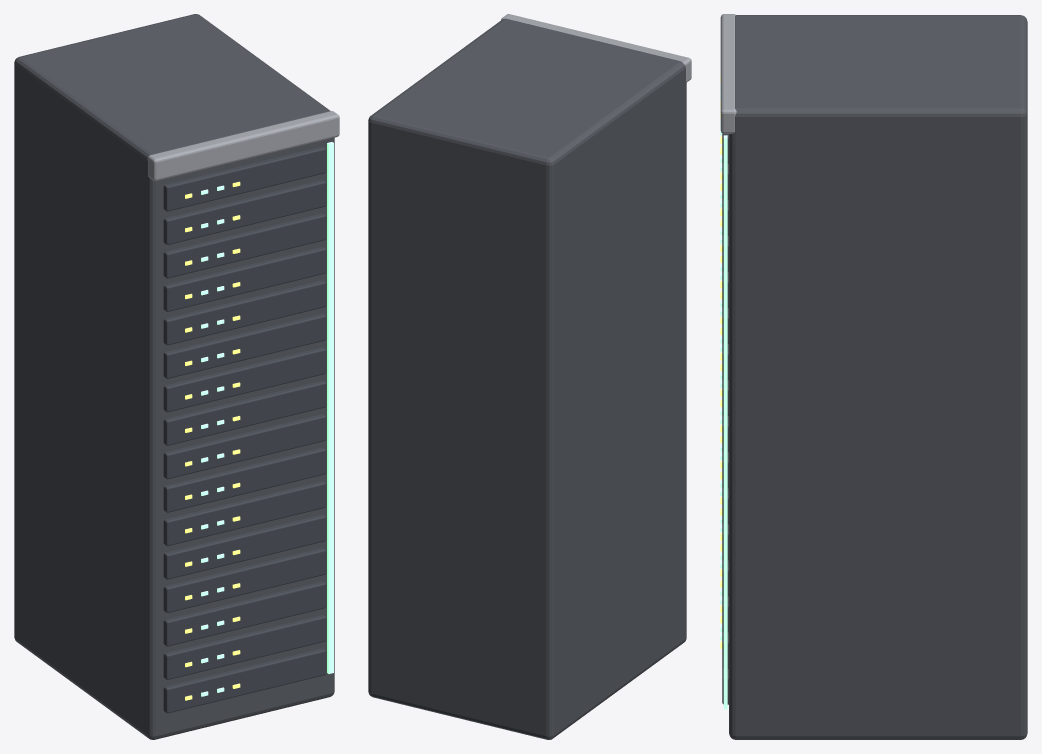
The model's file is server_rack_blade_full.glb.
3 views of the same model, side by side, from view 1: azimuth 30°, elevation 25°; view 2: azimuth 150°, elevation 25°; view 3: azimuth 270°, elevation 25° (orthographic). The views are drawn at different scales.
Visible parts, largest first — view 1: GD_server_rack_blade_full__m0, GD_server_rack_blade_full__m1, GD_server_rack_blade_full__m4, GD_server_rack_blade_full__m3, GD_server_rack_blade_full__m2; view 2: GD_server_rack_blade_full__m0, GD_server_rack_blade_full__m4; view 3: GD_server_rack_blade_full__m0, GD_server_rack_blade_full__m3, GD_server_rack_blade_full__m1, GD_server_rack_blade_full__m4, GD_server_rack_blade_full__m2.
Boxes of the visible parts, <box> form: GD_server_rack_blade_full__m0: <box>14,14,334,739</box>; GD_server_rack_blade_full__m1: <box>163,146,326,713</box>; GD_server_rack_blade_full__m4: <box>147,111,339,180</box>; GD_server_rack_blade_full__m3: <box>201,142,333,696</box>; GD_server_rack_blade_full__m2: <box>185,181,240,700</box>; GD_server_rack_blade_full__m0: <box>368,18,686,739</box>; GD_server_rack_blade_full__m4: <box>501,14,691,82</box>; GD_server_rack_blade_full__m0: <box>729,15,1027,739</box>; GD_server_rack_blade_full__m3: <box>720,84,727,709</box>; GD_server_rack_blade_full__m1: <box>722,133,728,704</box>; GD_server_rack_blade_full__m4: <box>720,14,736,133</box>; GD_server_rack_blade_full__m2: <box>720,75,722,648</box>.
Bounding box in the file's own units: 0.7 × 2.1 × 0.926.
